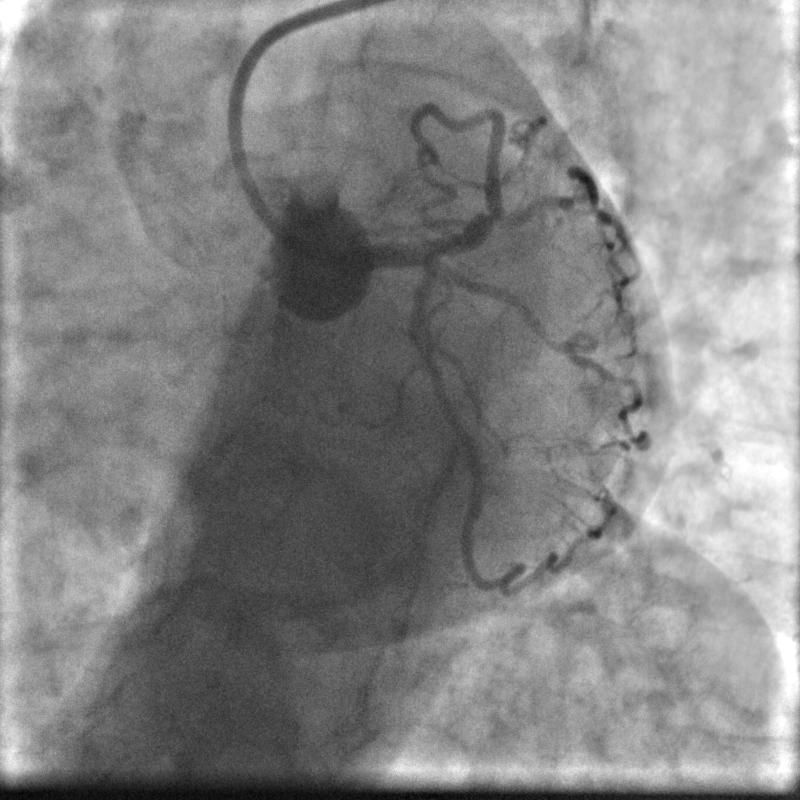Stenosis: (476, 201, 512, 234)
